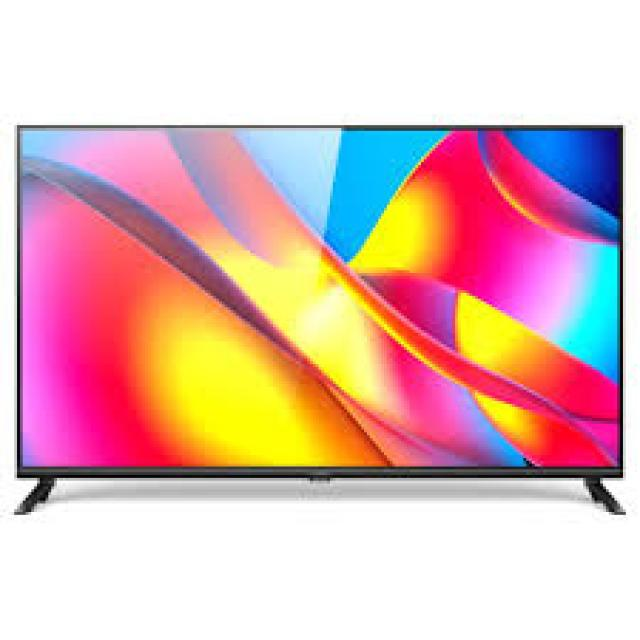tv: (11, 109, 634, 539)
